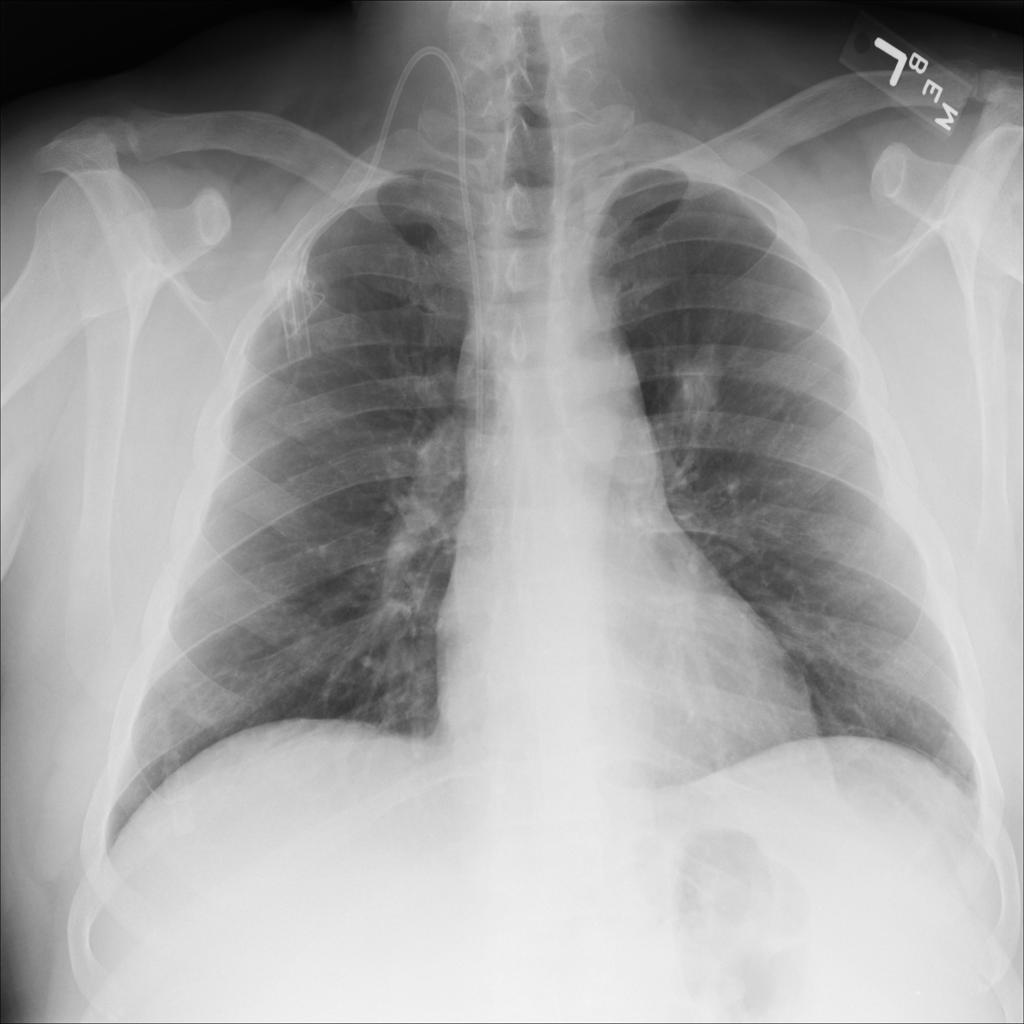nodule: (662, 337, 737, 426)
